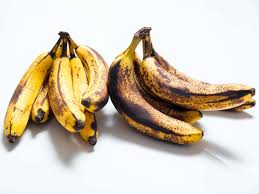looks_defective: (35, 20, 259, 189)
